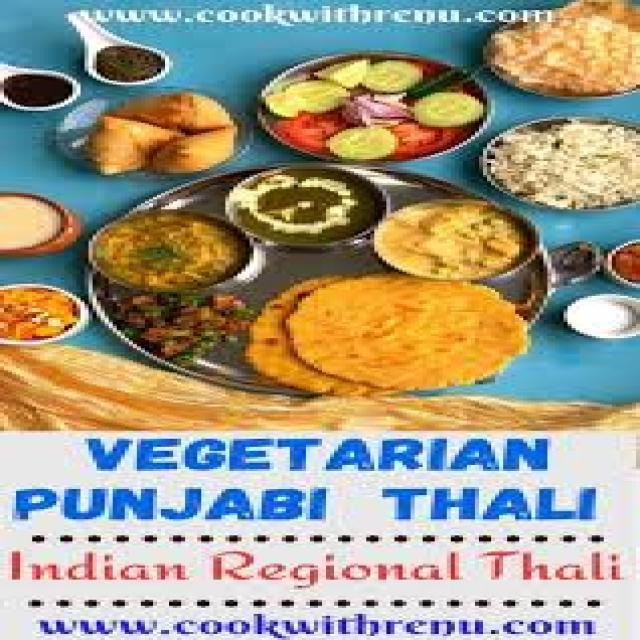curd: (549, 291, 640, 341)
dal: (400, 89, 492, 129)
papad: (242, 276, 540, 395)
pickle: (593, 237, 640, 288)
raita: (549, 289, 639, 342)
rice: (477, 114, 640, 211)
roti: (475, 5, 640, 103)
